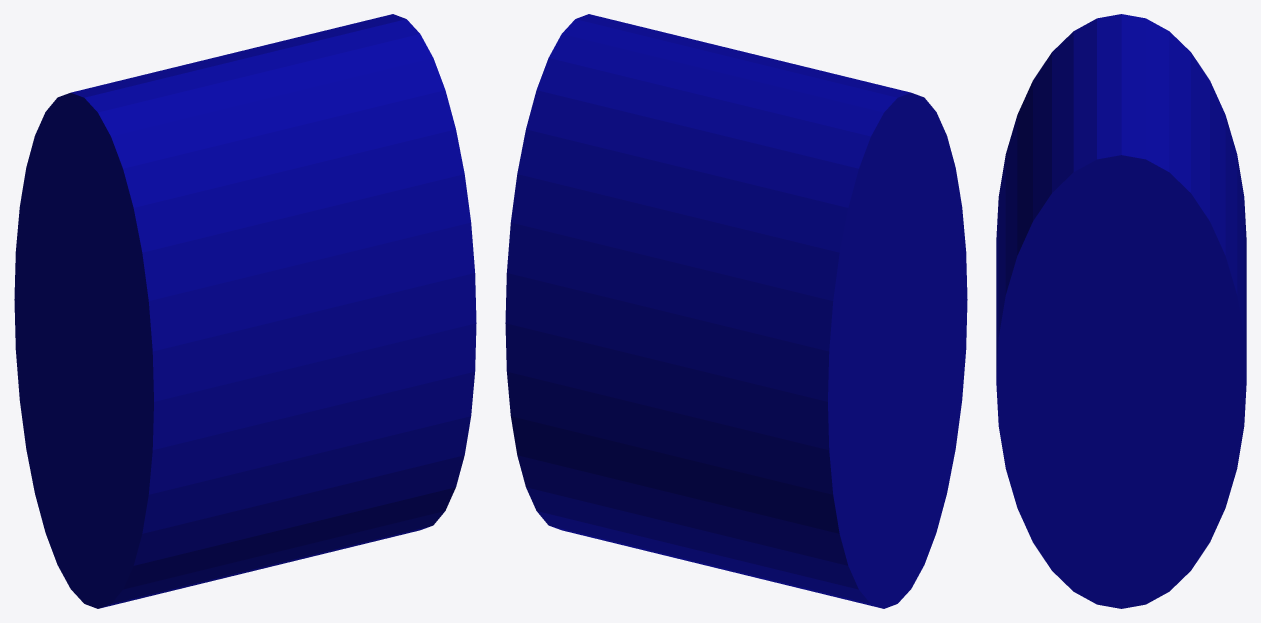
3 renders of one model, left to right at view 1: azimuth 30°, elevation 25°; view 2: azimuth 150°, elevation 25°; view 3: azimuth 270°, elevation 25°, orthographic. The views are drawn at different scales.
Parts seen in each view (by area): view 1: Cylinder.001; view 2: Cylinder.001; view 3: Cylinder.001.
Boxes of the visible parts, x1=… form: Cylinder.001: x1=14, y1=14, x2=476, y2=608; Cylinder.001: x1=505, y1=14, x2=967, y2=608; Cylinder.001: x1=996, y1=14, x2=1246, y2=608.
Size of the model in its own units: 0.077 by 0.1155 by 0.0578.
